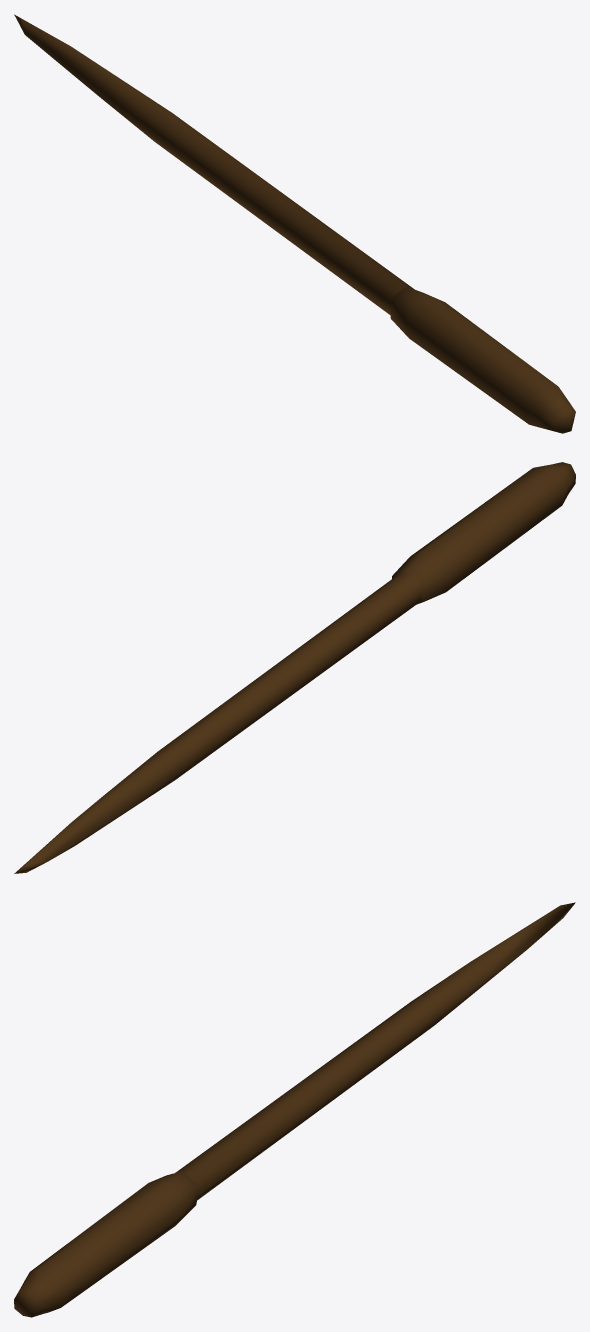
Rendered from magicstick.fbx.
The picture shows the model from 3 angles, top to bottom: view 1: azimuth 30°, elevation 25°; view 2: azimuth 150°, elevation 25°; view 3: azimuth 330°, elevation 25°; orthographic projection.
Visible parts, largest first — view 1: Cube; view 2: Cube; view 3: Cube.
Boxes of the visible parts, box(x1,y1,x2,y2) form: Cube: box(14, 14, 575, 433); Cube: box(14, 462, 575, 873); Cube: box(14, 902, 575, 1317).
Bounding box in the file's own units: 0.0386 × 0.0386 × 0.8691.
